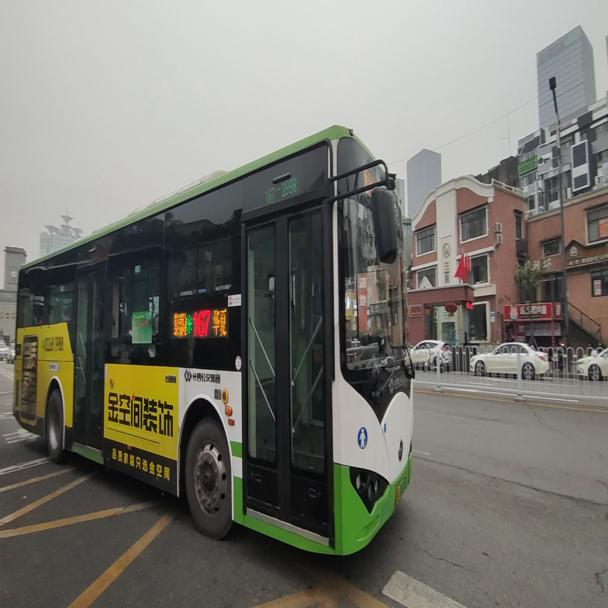bus: (12, 119, 416, 563)
screen: (192, 310, 210, 338)
